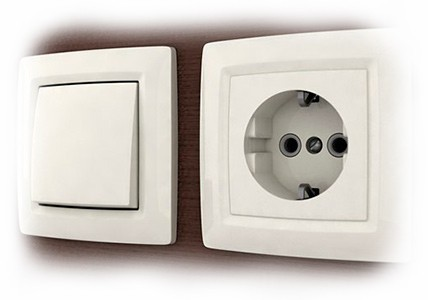raccoon: (242, 84, 350, 205)
